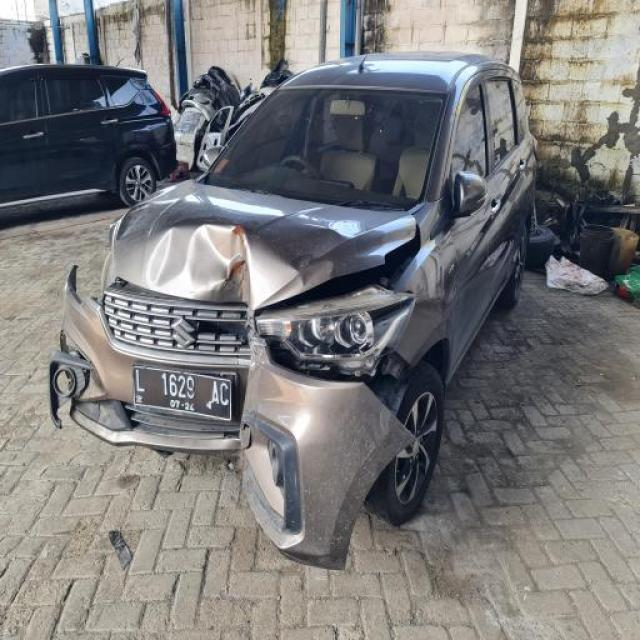crush: (47, 211, 424, 571)
